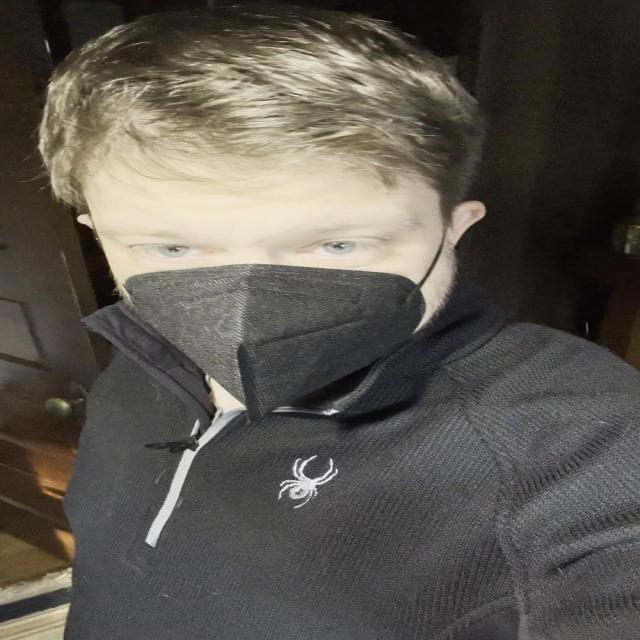no-helmet: (80, 133, 458, 418)
